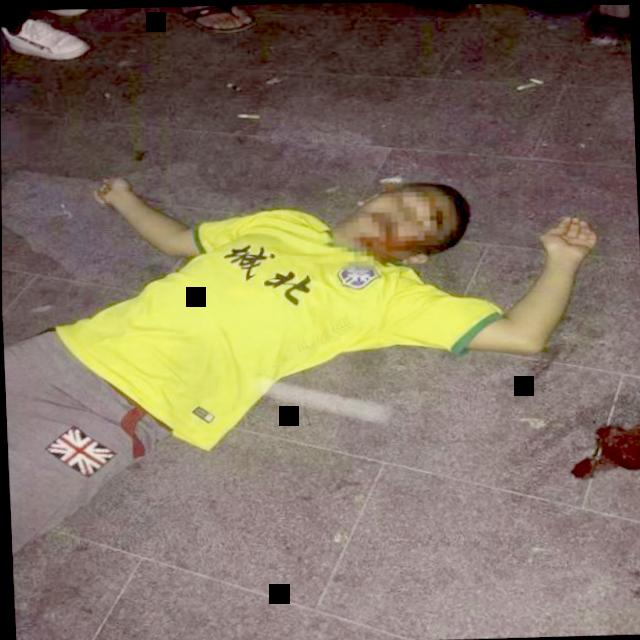Fall-Detected: (1, 106, 638, 579)
